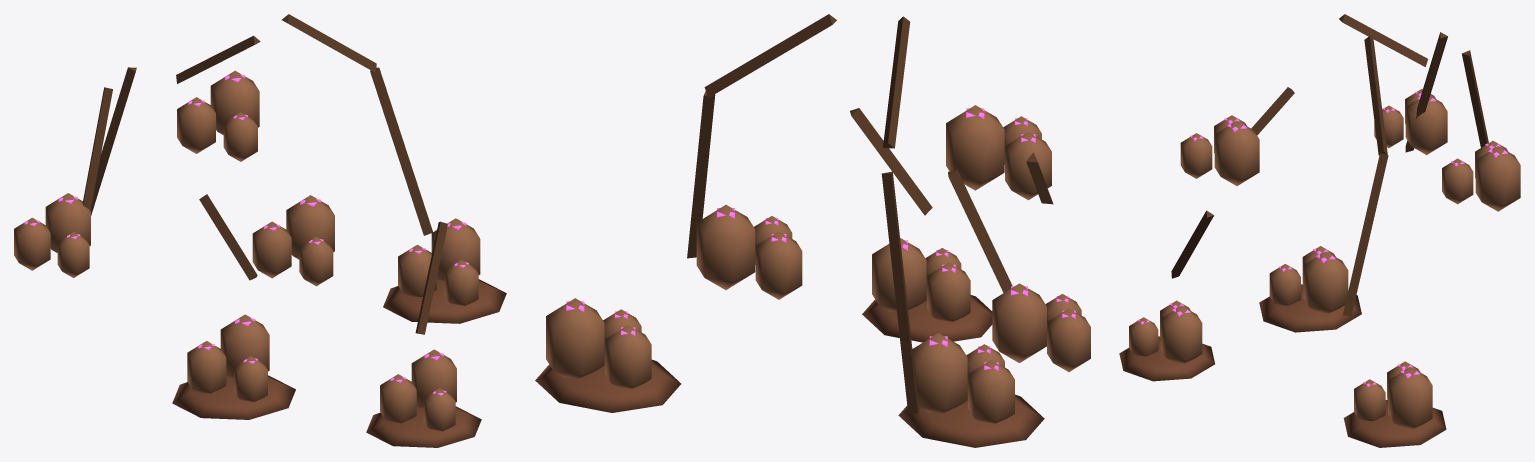
Rendered from overworld-settlement-eggs-south-asian-city.glb.
3 renders of one model, left to right at view 1: azimuth 30°, elevation 25°; view 2: azimuth 150°, elevation 25°; view 3: azimuth 270°, elevation 25°, orthographic. The views are drawn at different scales.
Visible parts, largest first — view 1: settlement_eggs; view 2: settlement_eggs; view 3: settlement_eggs.
Part boxes in pixels (<box>): settlement_eggs: <box>14,14,506,447</box>; settlement_eggs: <box>535,14,1090,447</box>; settlement_eggs: <box>1119,14,1520,447</box>.
Size of the model in its own units: 0.5554 by 0.3836 by 0.4479.
